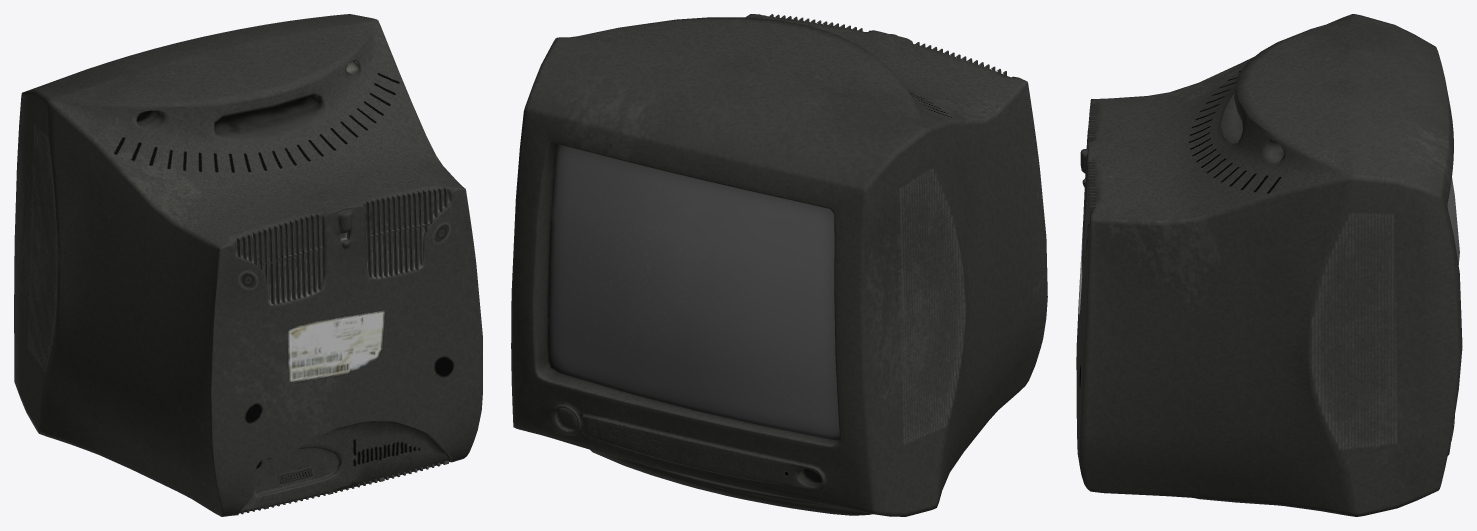
Rendered from tv_ceiling.glb.
The picture shows the model from 3 angles, left to right: view 1: azimuth 30°, elevation 25°; view 2: azimuth 150°, elevation 25°; view 3: azimuth 270°, elevation 25°; orthographic projection. The views are drawn at different scales.
Visible parts, largest first — view 1: LP__0; view 2: LP__0; view 3: LP__0.
Part boxes in pixels (x1,y1,x2,y2): LP__0: [14, 14, 482, 516]; LP__0: [511, 14, 1047, 516]; LP__0: [1076, 14, 1462, 516].
Bounding box in the file's own units: 1.73 × 1.65 × 1.61.
Materials: 1 (1 with a texture image).
